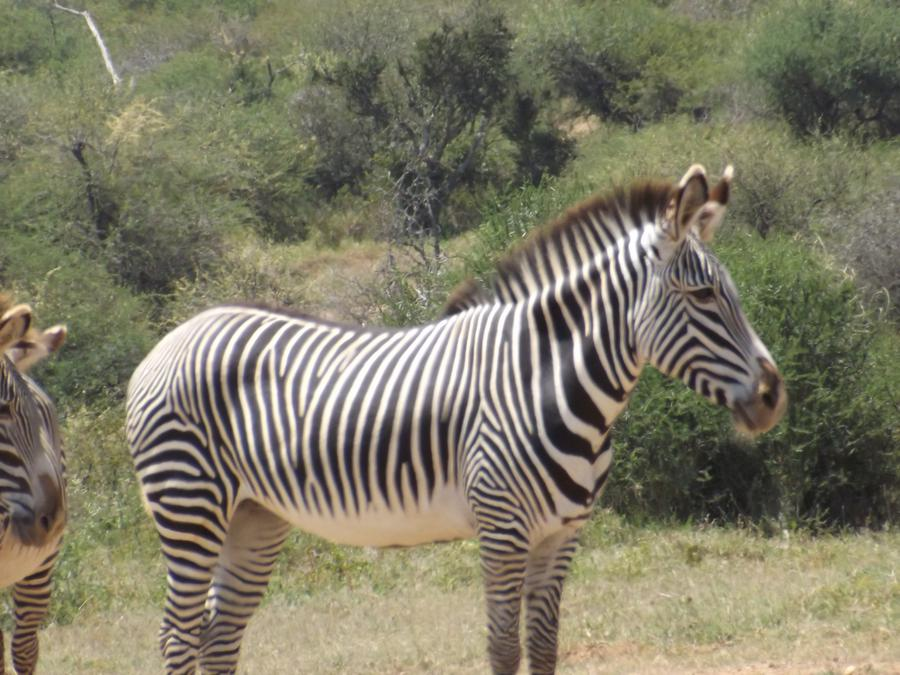zebra_grevys: (113, 279, 573, 528)
